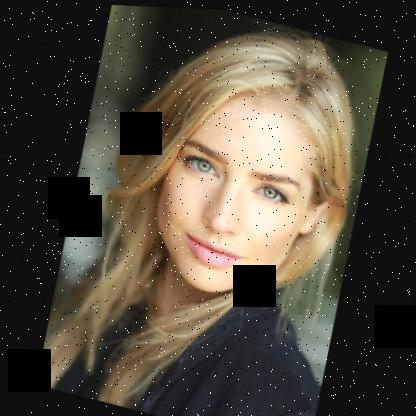Female: (139, 66, 344, 310)
